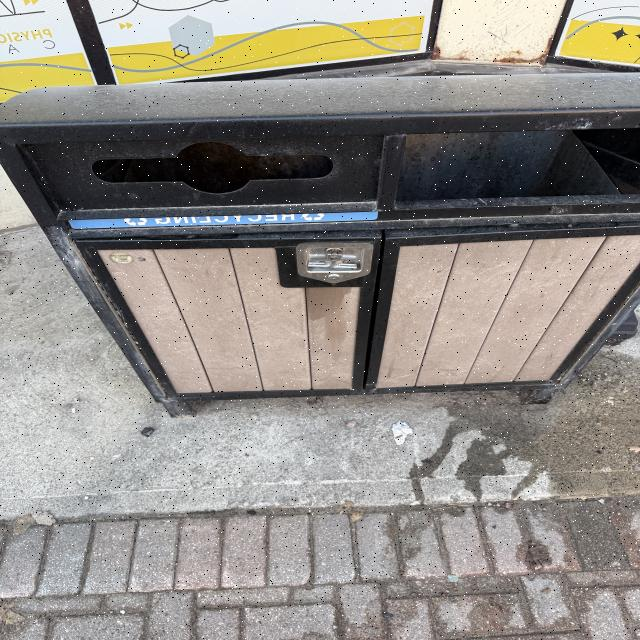Dustbin: (0, 72, 638, 418)
